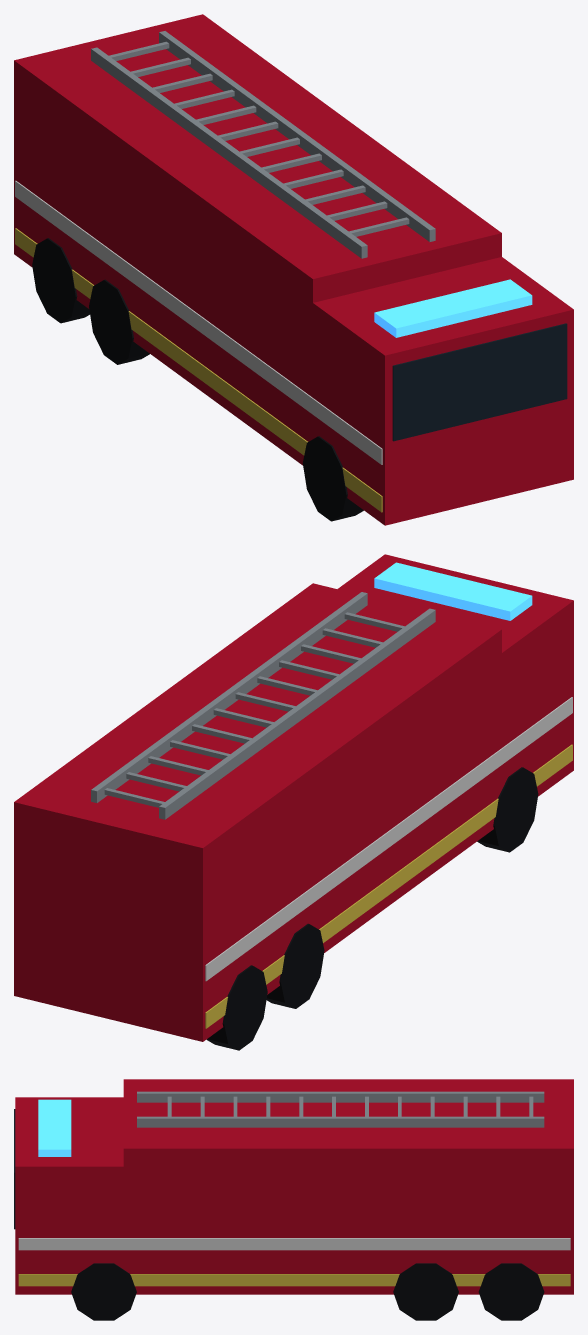
File: fire.glb
3 views of the same model, one above another, from view 1: azimuth 30°, elevation 25°; view 2: azimuth 150°, elevation 25°; view 3: azimuth 270°, elevation 25° (orthographic). The views are drawn at different scales.
Visible parts, largest first — view 1: fire; view 2: fire; view 3: fire.
Part boxes in pixels (x1,y1,x2,y2): fire: (14, 14, 573, 525); fire: (14, 554, 573, 1050); fire: (14, 1079, 573, 1320).
Size of the model in its own units: 2.54 by 3.03 by 8.52.
